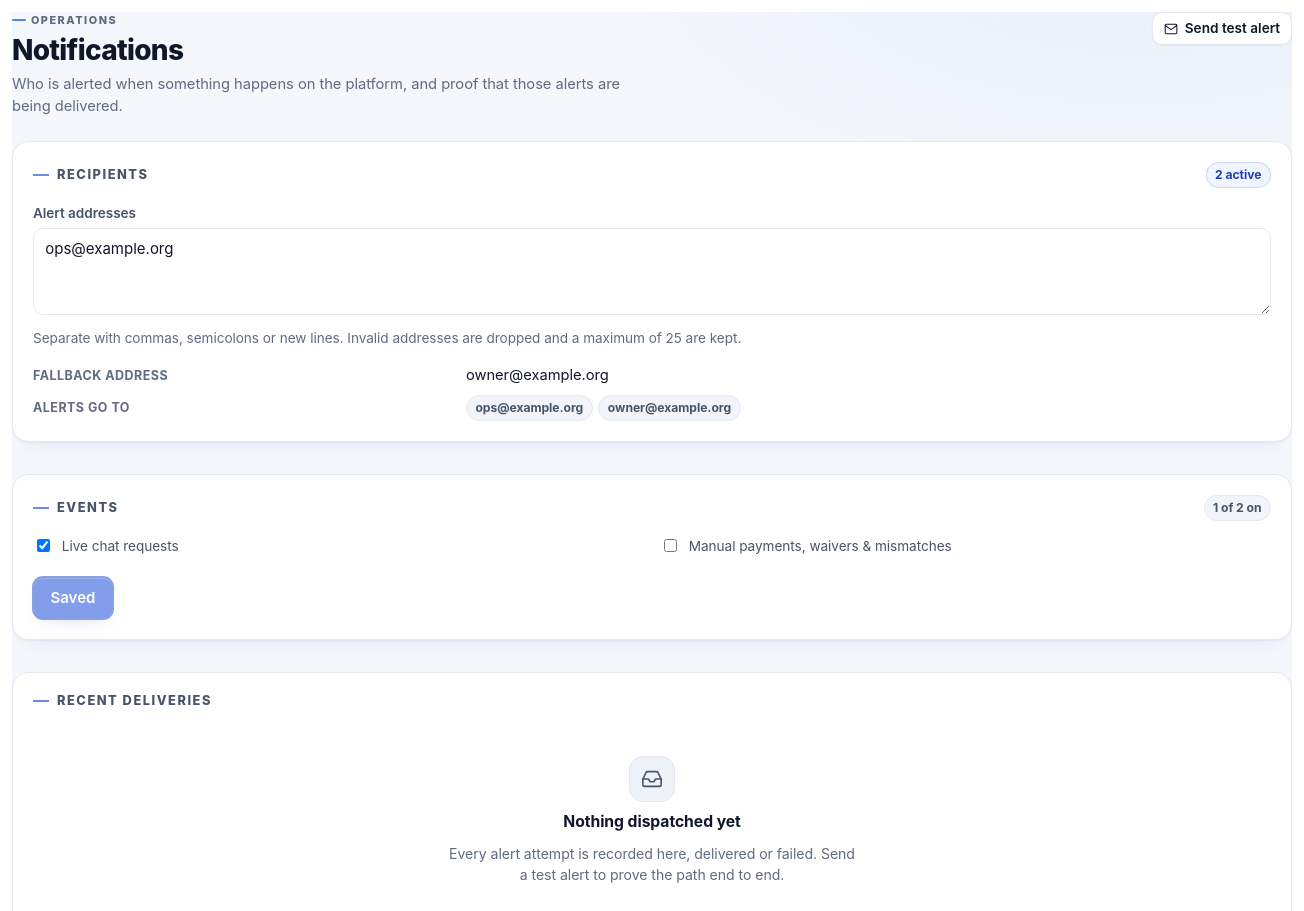
Admin notifications › reports when a save leaves nobody configured
The width and height of the screenshot is (1304, 911).
Clear the text box labelled "Alert addresses". click: (652, 272)
box: x1=33 y1=228 x2=1271 y2=315
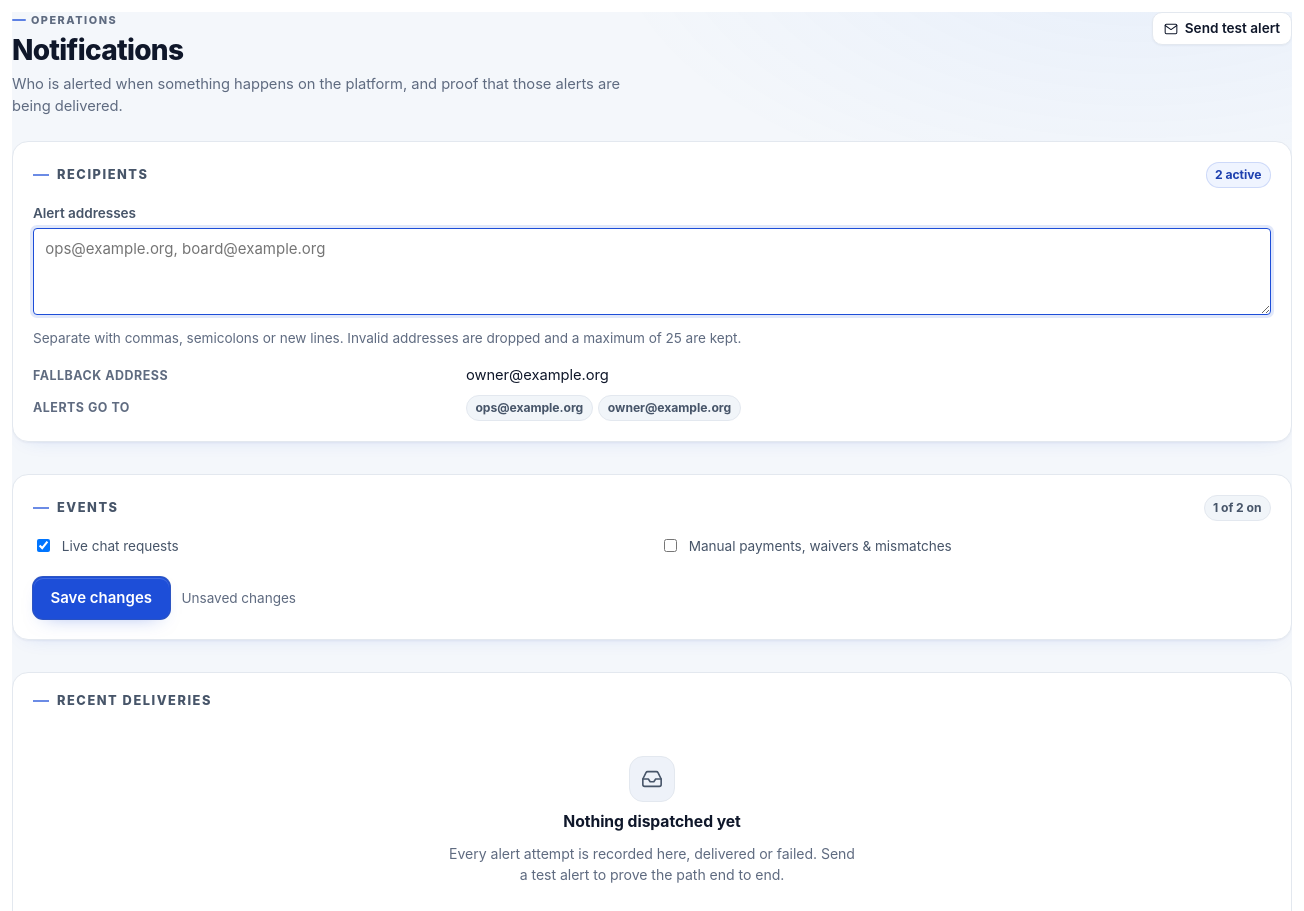
Click the button "Save changes". click: (101, 598)
box: x1=33 y1=577 x2=170 y2=619
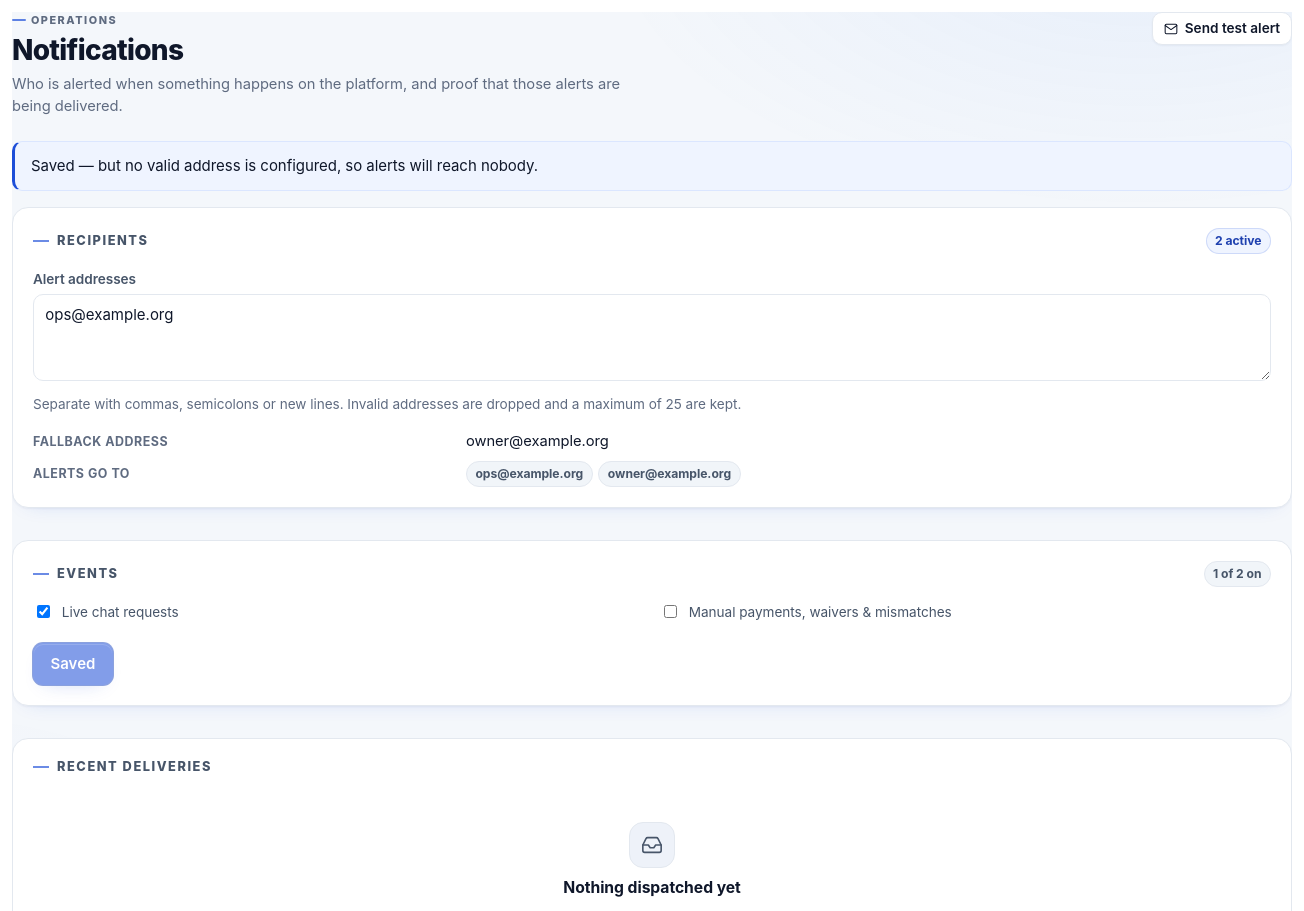
Check: the text "Saved — but no valid address is configured, so alerts will reach nobody." is shown, box x1=12 y1=141 x2=1292 y2=191
